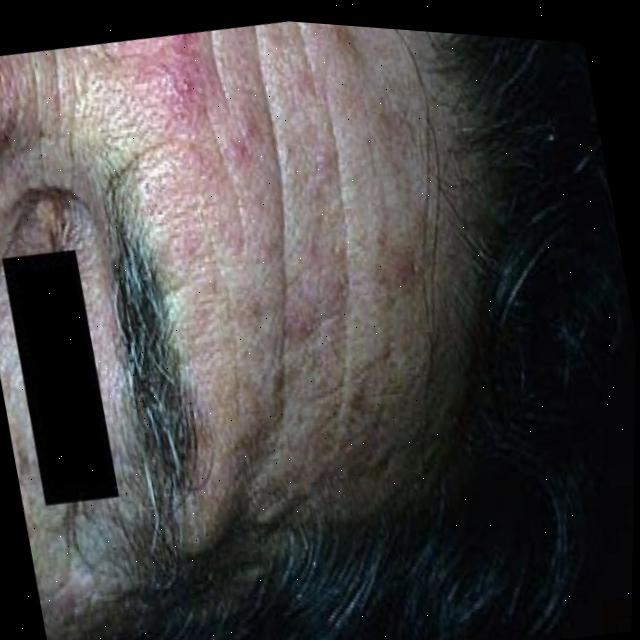Rosacea: (125, 10, 374, 364)
